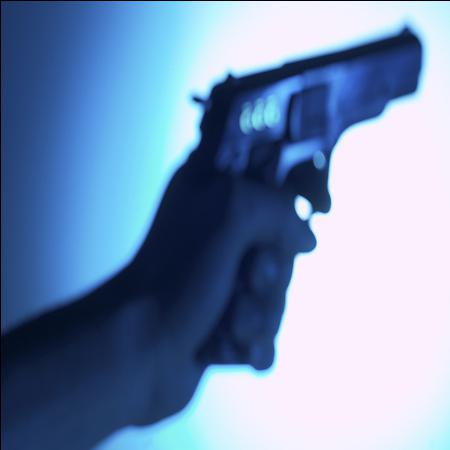Pistol: (187, 17, 426, 373)
